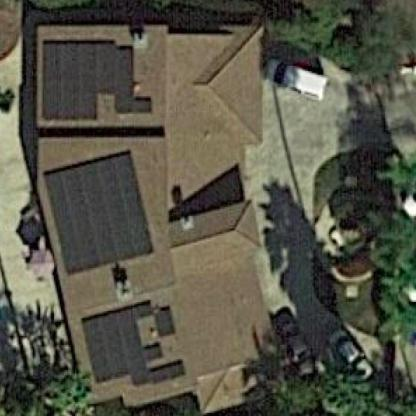car: (264, 42, 330, 109), (275, 303, 319, 388), (322, 328, 376, 381)
solar_panel: (45, 154, 162, 284), (39, 30, 160, 134), (83, 293, 193, 389)
